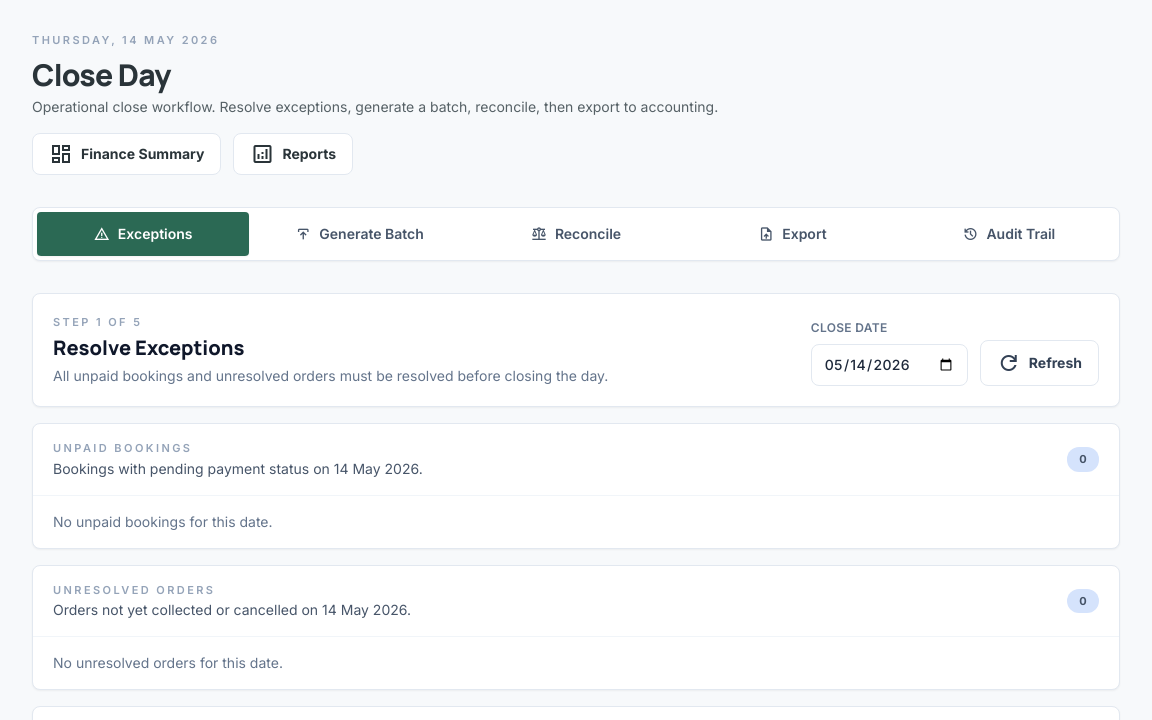
AdminFinancePage - Close Day wizard › auto-selects the first active accounting profile for export
Click the button named "upload_file export". click: (792, 234)
box: [686, 212, 899, 256]
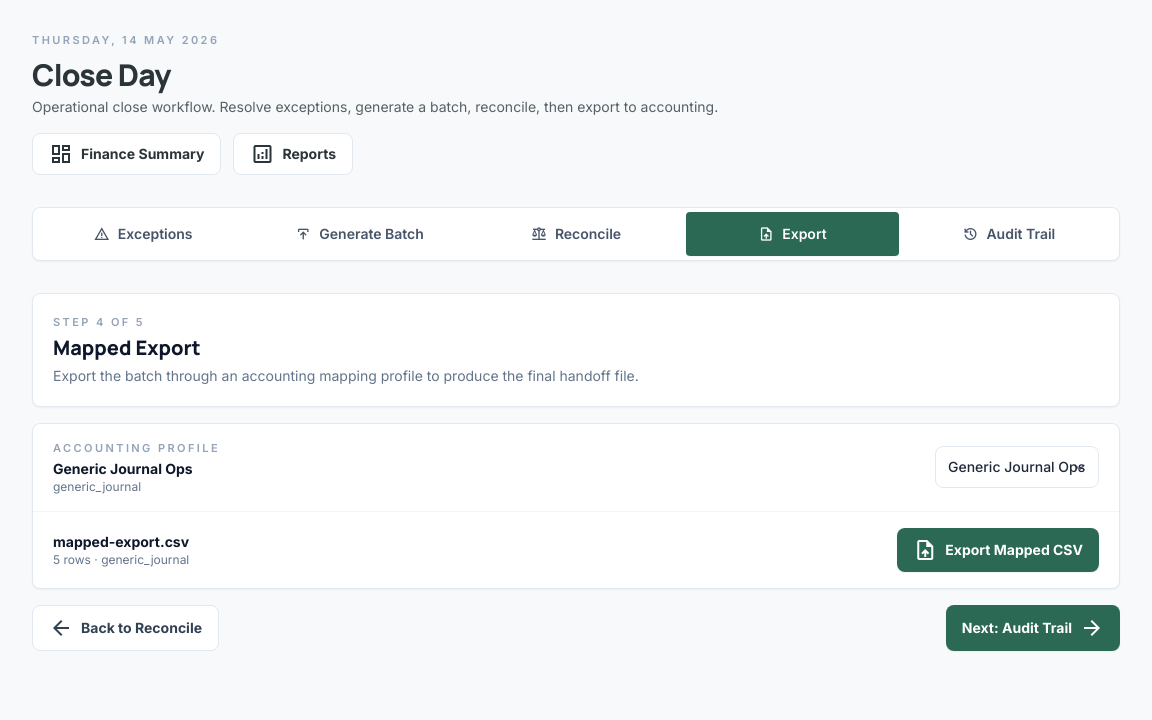
Expected: the dropdown named "select accounting profile" shows "Generic Journal Ops", [935, 446, 1099, 488]
Expected: the text "Generic Journal Ops" is shown, [53, 460, 193, 476]
